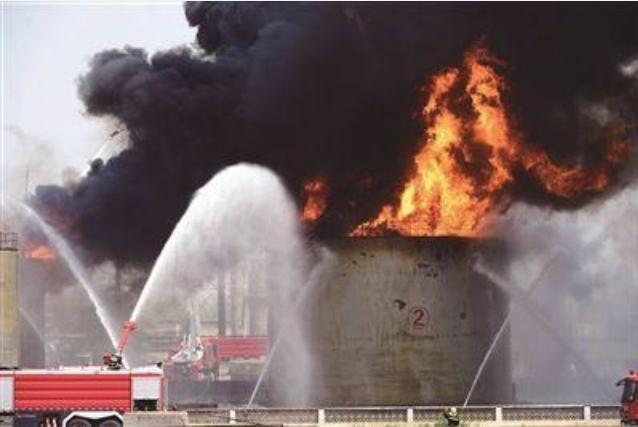喷灌水雾: (0, 159, 338, 412)
